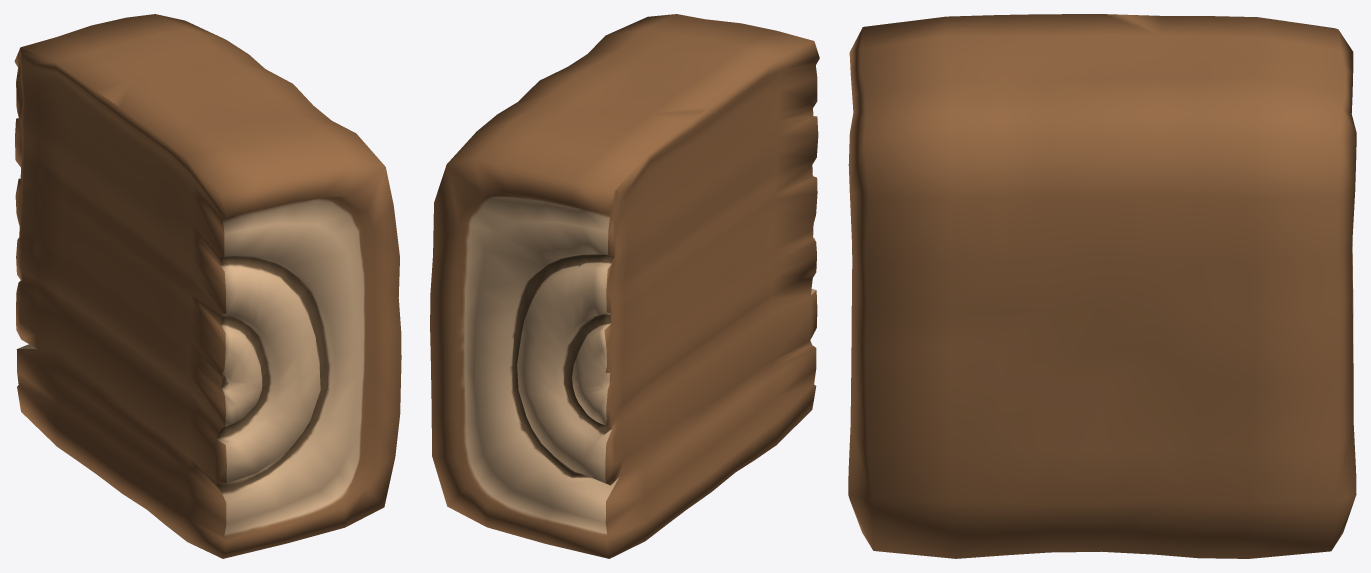
Rendered from HALFfbx.fbx.
3 views of the same model, side by side, from view 1: azimuth 30°, elevation 25°; view 2: azimuth 150°, elevation 25°; view 3: azimuth 270°, elevation 25° (orthographic). The views are drawn at different scales.
Visible parts, largest first — view 1: HALF_LOW; view 2: HALF_LOW; view 3: HALF_LOW.
Boxes of the visible parts, <box> form: HALF_LOW: <box>14,14,401,558</box>; HALF_LOW: <box>430,14,819,558</box>; HALF_LOW: <box>848,14,1356,558</box>.
Size of the model in its own units: 0.5131 by 1 by 0.9991.
Materials: 1 (1 with a texture image).
